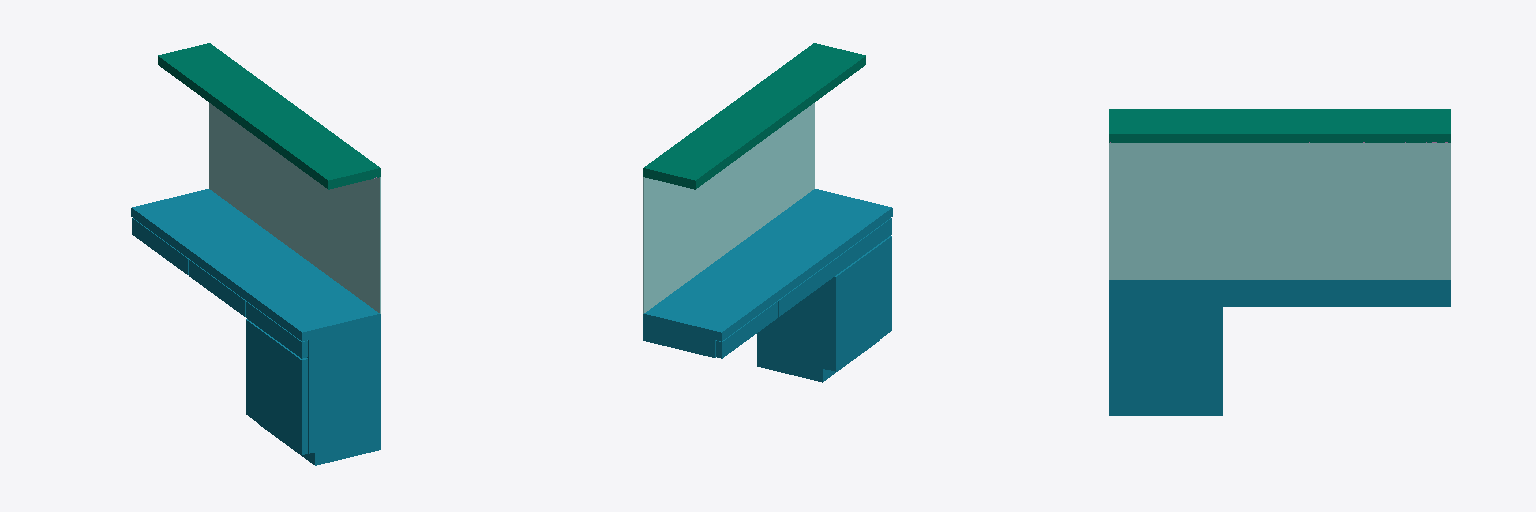
File: table.obj
3 renders of one model, left to right at view 1: azimuth 30°, elevation 25°; view 2: azimuth 150°, elevation 25°; view 3: azimuth 270°, elevation 25°, orthographic.
Parts seen in each view (by area): view 1: Box3692, Box3695, Box3694; view 2: Box3692, Box3695, Box3694; view 3: Box3695, Box3692, Box3694.
Boxes of the visible parts, x1=… form: Box3692: x1=131, y1=189, x2=380, y2=465; Box3695: x1=209, y1=103, x2=380, y2=313; Box3694: x1=158, y1=43, x2=380, y2=189; Box3692: x1=643, y1=189, x2=892, y2=382; Box3695: x1=643, y1=103, x2=814, y2=313; Box3694: x1=643, y1=43, x2=865, y2=189; Box3695: x1=1109, y1=143, x2=1450, y2=279; Box3692: x1=1109, y1=280, x2=1450, y2=415; Box3694: x1=1109, y1=109, x2=1450, y2=142.
Size of the model in its own units: 18.02 by 62 by 68.08.